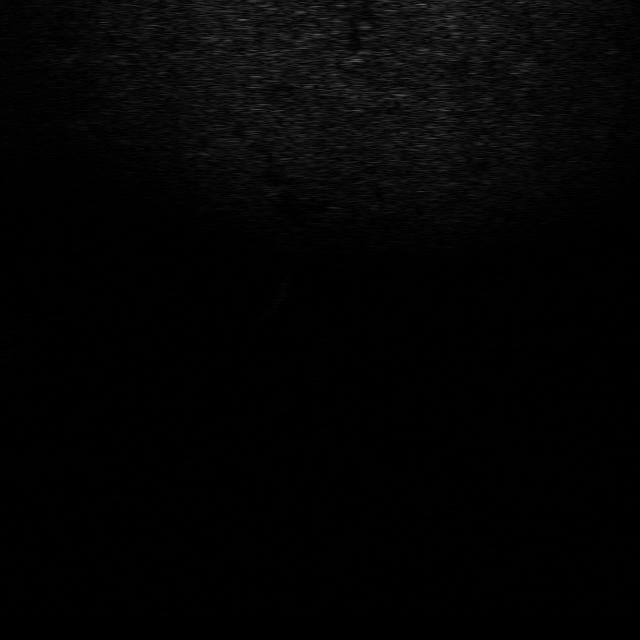human body: (256, 268, 294, 328)
